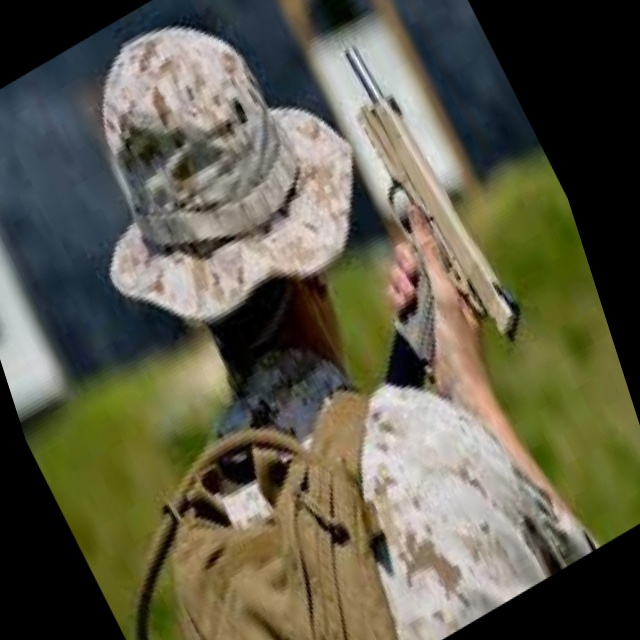gun: (252, 3, 553, 447)
